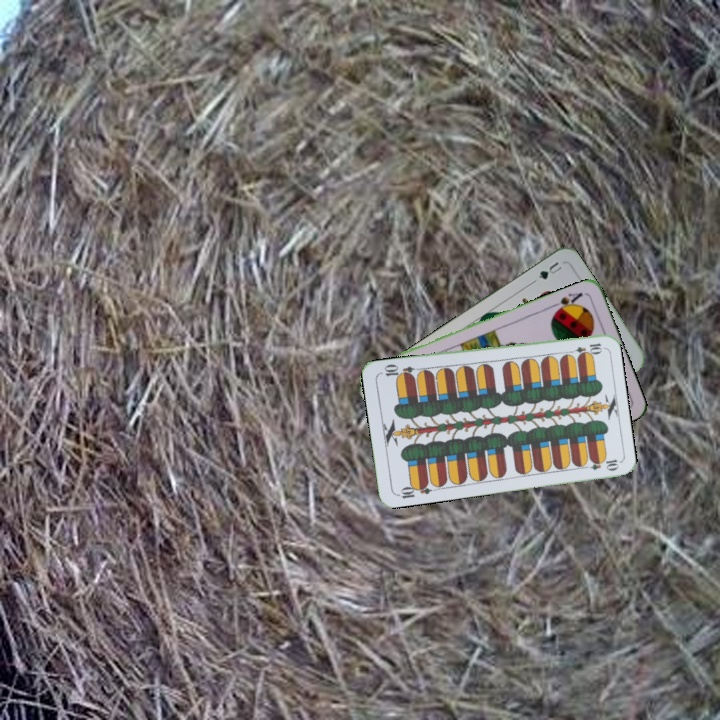E10: (393, 478, 434, 501), (564, 339, 605, 357)
GU: (534, 257, 565, 282)
SA: (548, 288, 585, 316)
